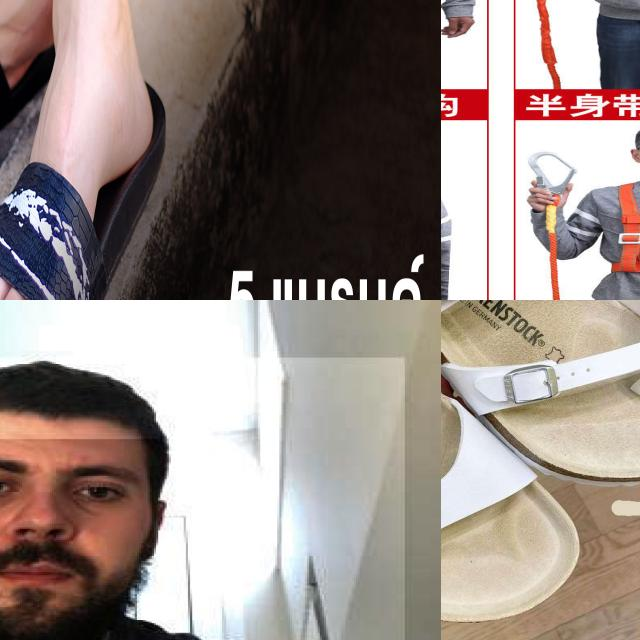Harness: (613, 181, 640, 281)
No_Glasses: (0, 443, 139, 526)
Sandals: (0, 0, 197, 300), (441, 300, 606, 631), (441, 300, 640, 508)
face_nomask: (0, 440, 149, 640)
head_nohelmet: (0, 362, 160, 439)
person: (0, 357, 407, 640)
